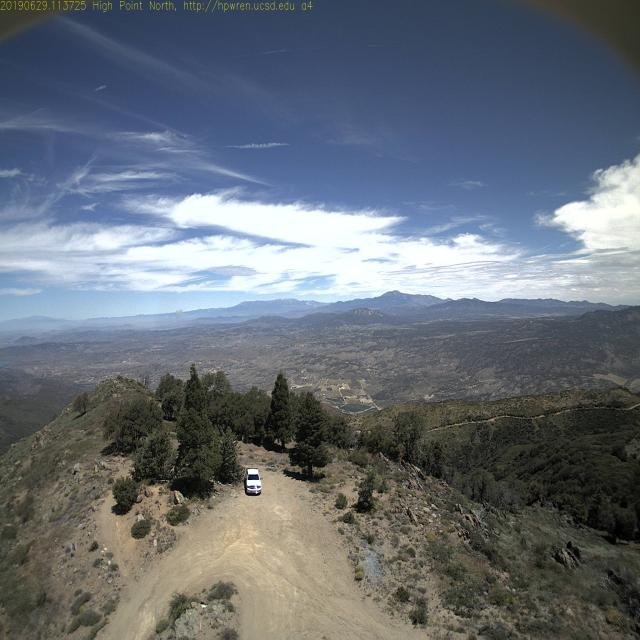smoke: (168, 300, 190, 332)
